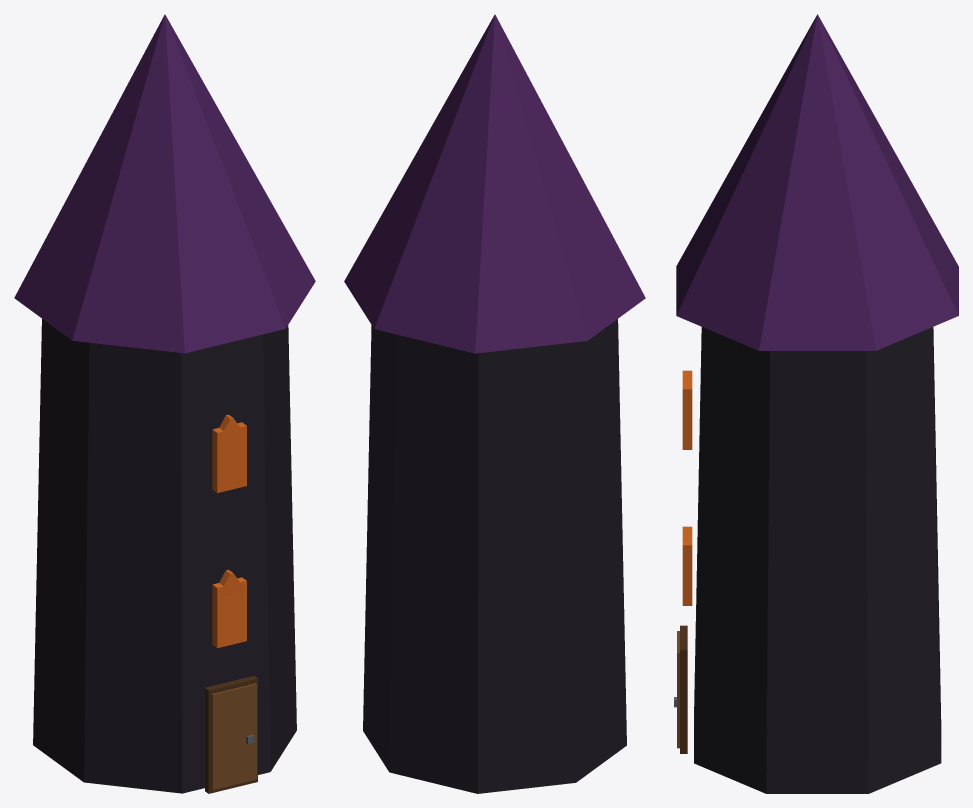
The model's file is demon_house_c.glb.
The picture shows the model from 3 angles, left to right: view 1: azimuth 30°, elevation 25°; view 2: azimuth 150°, elevation 25°; view 3: azimuth 270°, elevation 25°; orthographic projection.
Visible parts, largest first — view 1: demon_house_c; view 2: demon_house_c; view 3: demon_house_c.
Boxes of the visible parts, x1,y1,x2,y2 form: demon_house_c: [14, 14, 315, 793]; demon_house_c: [344, 14, 645, 793]; demon_house_c: [674, 14, 958, 793].
Bounding box in the file's own units: 1.48 × 4.2 × 1.49.
